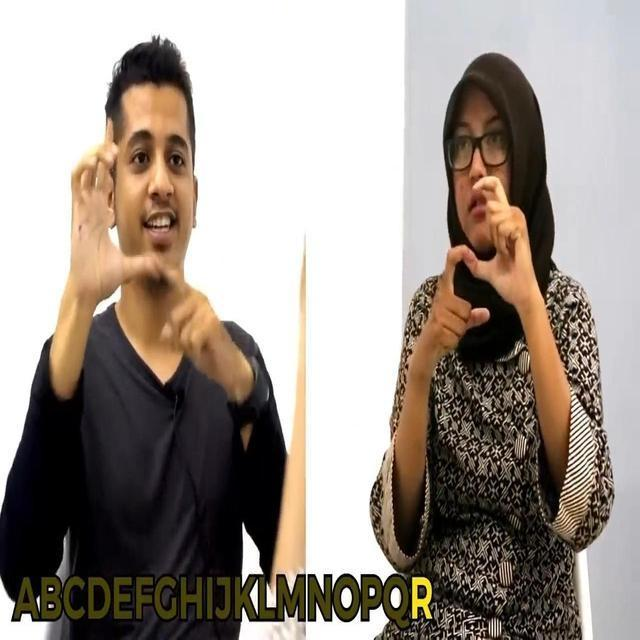S: (75, 117, 219, 357), (420, 172, 510, 353)
